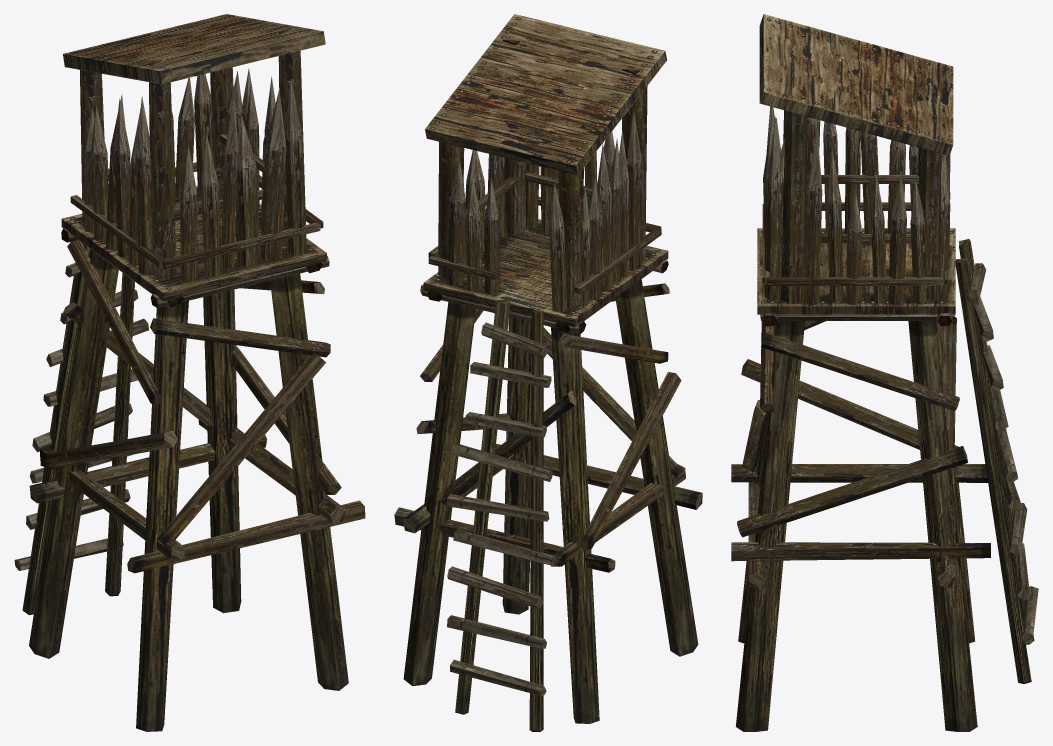
3 views of the same model, side by side, from view 1: azimuth 30°, elevation 25°; view 2: azimuth 150°, elevation 25°; view 3: azimuth 270°, elevation 25° (orthographic). The views are drawn at different scales.
Visible parts, largest first — view 1: Box01; view 2: Box01; view 3: Box01.
Boxes of the visible parts, bbox=[...] form: Box01: bbox=[14, 14, 365, 731]; Box01: bbox=[394, 14, 702, 731]; Box01: bbox=[731, 14, 1038, 731].
Bounding box in the file's own units: 3.77 × 10.1 × 4.43.
